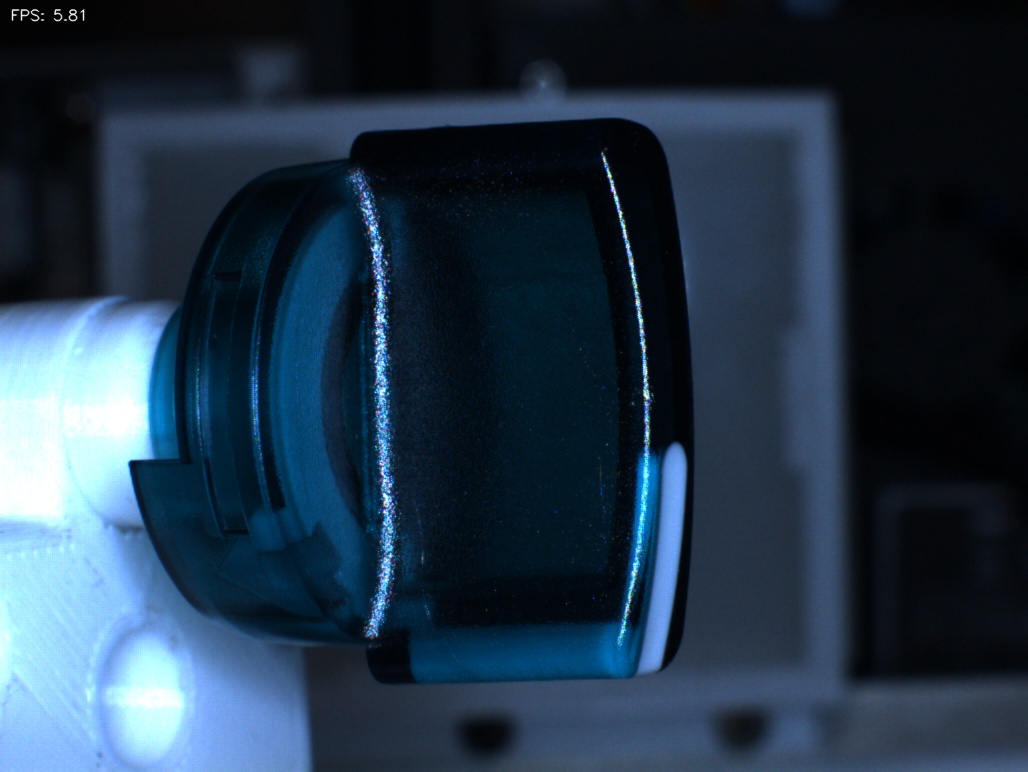Givrage: (390, 488, 456, 635), (565, 439, 632, 557)
